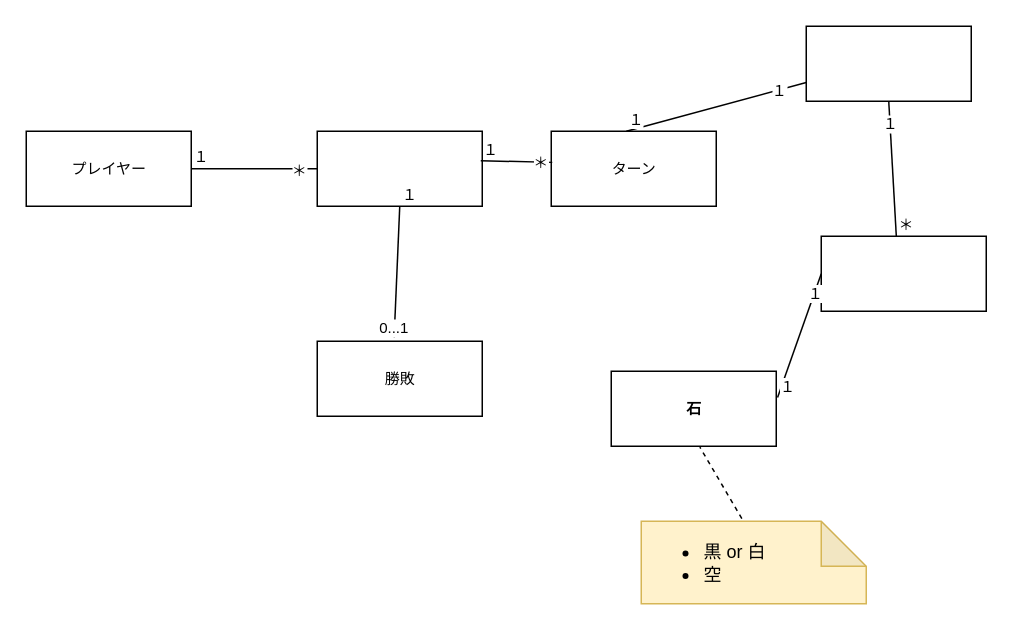
The diagram is 1013 pixels wide and 630 high, and some of its shapes have lost their labels. The shapes that lost their labels are listed below. From the top down, each one's box as (x1, y1, x2, y2) in pixels, then its label:
(805, 25, 971, 101): 盤面
(316, 130, 482, 206): 対戦(開始)
(820, 235, 986, 311): マス目
